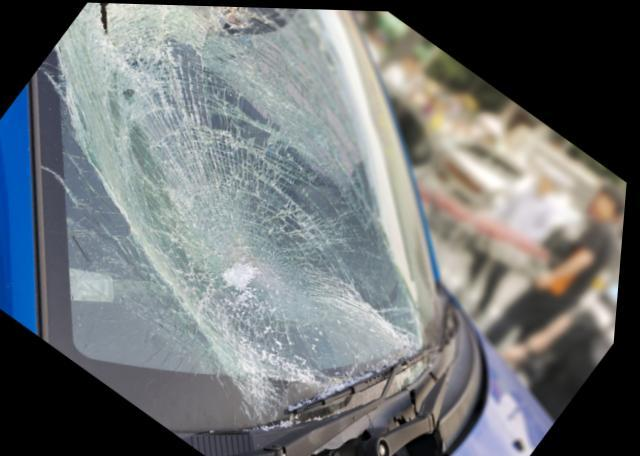glass shatter: (38, 2, 444, 431)
